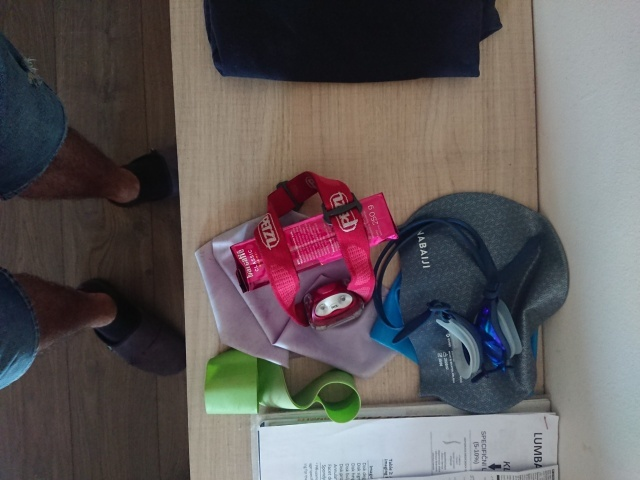Barcaffe Classic Original 225g: (227, 189, 401, 296)
